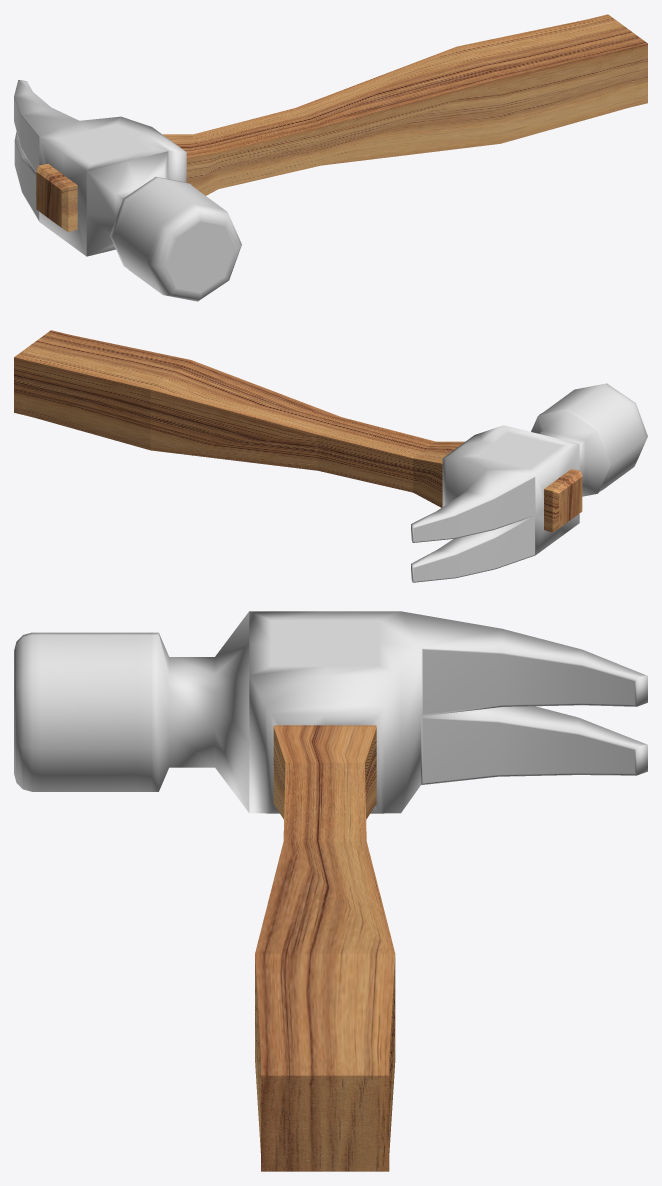
File: hammer.gltf
3 views of the same model, one above another, from view 1: azimuth 30°, elevation 25°; view 2: azimuth 150°, elevation 25°; view 3: azimuth 270°, elevation 25° (orthographic). The views are drawn at different scales.
Parts seen in each view (by area): view 1: 立方体.001, 立方体; view 2: 立方体.001, 立方体; view 3: 立方体, 立方体.001.
Boxes of the visible parts, box(x1,y1,x2,y2) form: 立方体.001: box(36, 14, 647, 231); 立方体: box(14, 80, 241, 301); 立方体.001: box(14, 330, 582, 532); 立方体: box(411, 383, 647, 582); 立方体: box(14, 611, 647, 813); 立方体.001: box(255, 725, 395, 1171).
Size of the model in its own units: 14.16 by 2.24 by 8.35.
2 materials, 1 textured.
